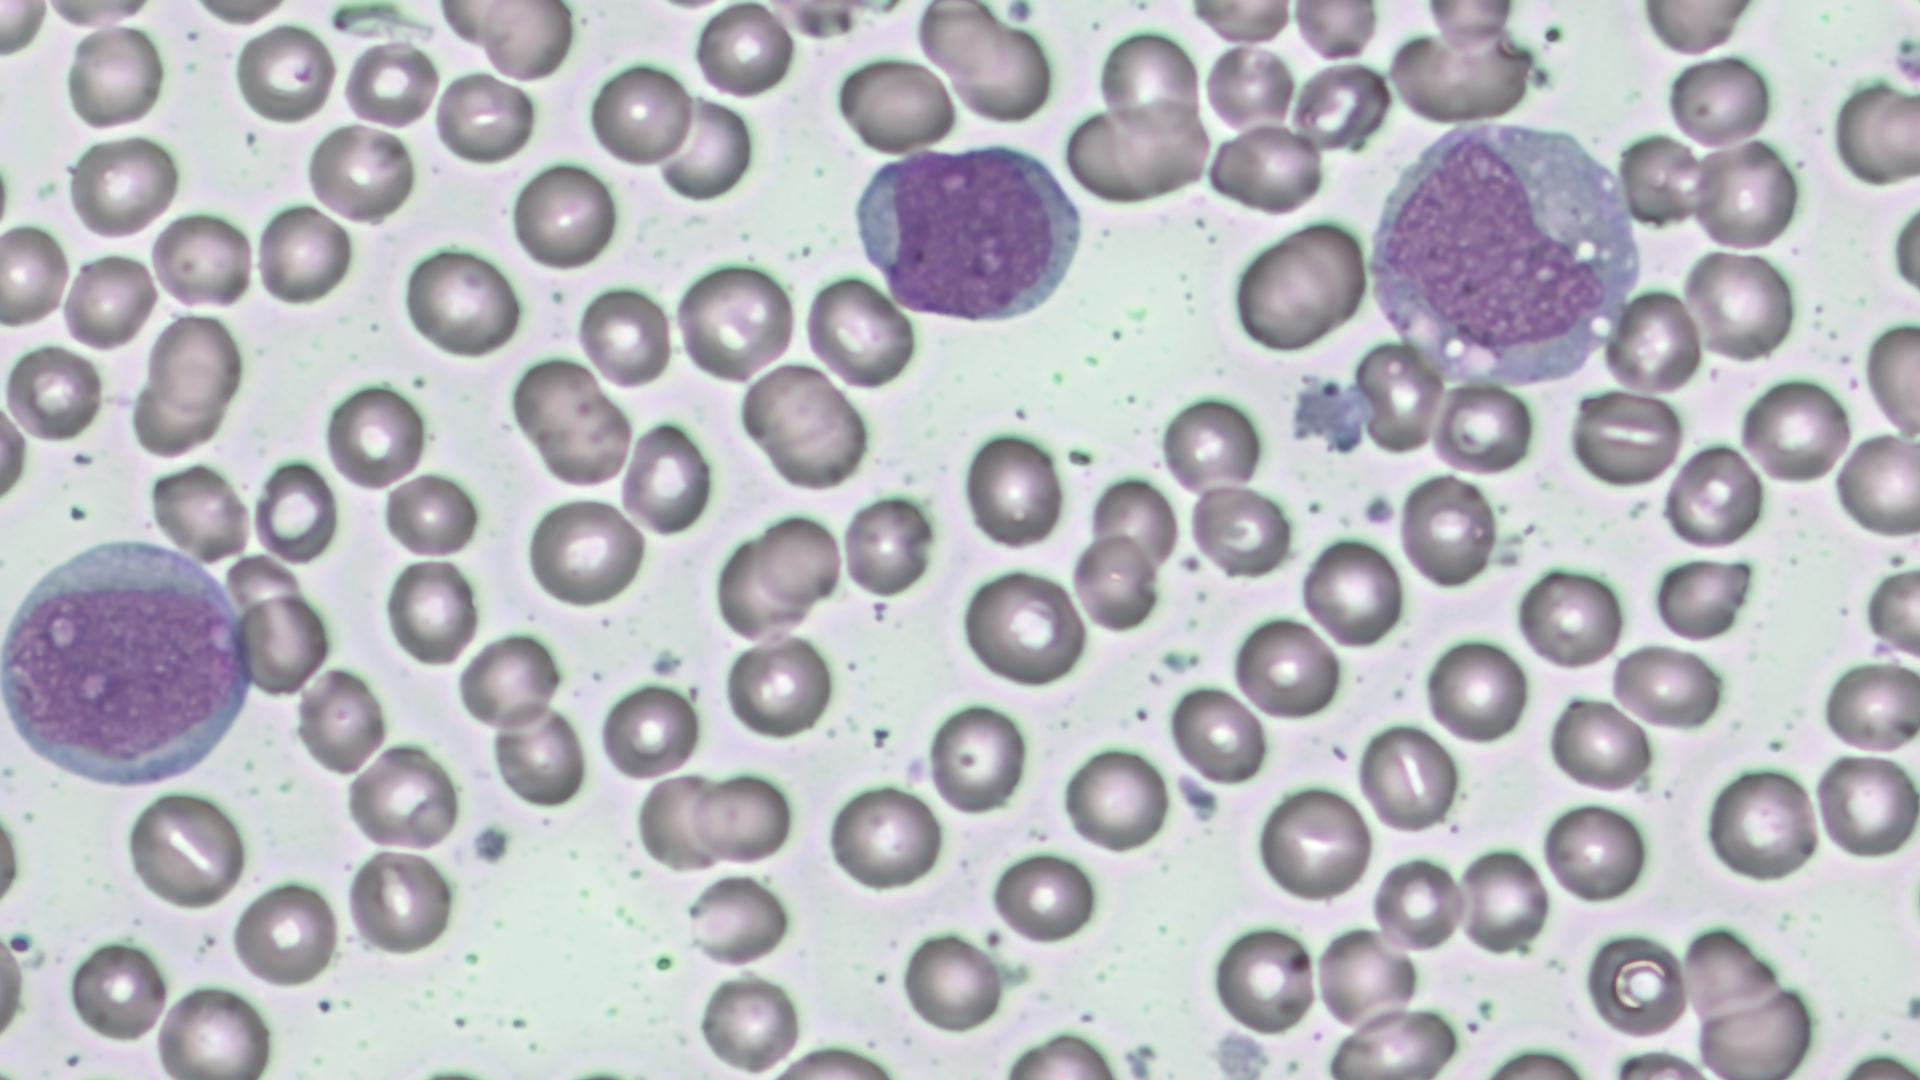Platelets: (647, 644, 686, 680), (1000, 0, 1039, 26), (1319, 375, 1342, 393)
RBC: (1229, 224, 1369, 353), (738, 360, 870, 492), (1059, 100, 1211, 208), (1385, 22, 1538, 127), (121, 787, 251, 910), (673, 258, 796, 385), (960, 567, 1084, 687), (1251, 781, 1371, 905), (1701, 762, 1821, 885), (1680, 243, 1800, 364), (402, 243, 524, 360), (802, 270, 916, 393), (822, 779, 945, 893), (525, 495, 647, 608), (960, 425, 1068, 553), (943, 8, 1058, 125), (835, 51, 959, 158), (65, 131, 181, 244), (229, 876, 342, 992), (720, 630, 836, 742), (152, 978, 280, 1080), (1581, 922, 1689, 1042), (1298, 531, 1406, 651), (344, 844, 458, 957), (1228, 611, 1342, 723), (926, 696, 1030, 819), (1420, 633, 1532, 746), (1058, 742, 1172, 853), (1538, 796, 1652, 907), (345, 740, 459, 851), (1513, 560, 1626, 671), (1688, 138, 1797, 253), (320, 378, 429, 495), (1396, 469, 1498, 592), (898, 924, 1009, 1036), (587, 55, 695, 170), (1211, 920, 1317, 1036), (1356, 717, 1461, 835), (506, 160, 616, 272), (1313, 922, 1422, 1035), (1095, 26, 1203, 140), (1811, 748, 1917, 862), (527, 375, 636, 487), (1741, 375, 1847, 488), (61, 18, 165, 133), (1156, 390, 1265, 498), (66, 934, 171, 1044), (655, 94, 758, 206), (694, 971, 806, 1073), (305, 119, 417, 222), (1604, 284, 1706, 396), (1606, 640, 1726, 735), (149, 207, 256, 313), (253, 199, 356, 309), (620, 418, 713, 538), (1569, 389, 1683, 488), (1352, 339, 1447, 456), (1166, 680, 1269, 789), (1207, 120, 1325, 214), (384, 554, 480, 669), (1, 340, 105, 446), (1545, 691, 1654, 793), (491, 699, 589, 810), (1665, 51, 1776, 150), (711, 538, 814, 644), (145, 458, 251, 560), (575, 281, 674, 390), (988, 848, 1098, 945), (59, 247, 160, 353), (691, 1, 796, 102), (1084, 473, 1182, 582), (1664, 442, 1762, 550), (1188, 483, 1296, 580), (684, 872, 794, 968), (1455, 843, 1551, 952), (295, 665, 388, 778), (458, 630, 560, 732), (597, 680, 702, 781), (251, 452, 340, 568), (839, 492, 934, 601), (236, 591, 332, 698), (1317, 1005, 1461, 1076), (630, 770, 731, 872), (233, 22, 334, 124), (690, 769, 794, 866), (1429, 380, 1536, 475), (145, 311, 243, 413), (1820, 655, 1917, 757), (1833, 75, 1920, 187), (1069, 529, 1163, 633), (508, 356, 611, 450), (1370, 853, 1464, 953), (434, 70, 538, 160), (1292, 59, 1390, 153), (339, 36, 436, 129), (381, 468, 480, 560), (1834, 433, 1917, 541), (1652, 553, 1754, 640), (1203, 41, 1298, 133), (753, 510, 843, 603), (0, 219, 74, 328), (477, 3, 575, 84), (1633, 1, 1758, 61), (1865, 316, 1917, 448), (1859, 562, 1920, 662), (1291, 1, 1381, 63), (1188, 0, 1298, 47), (1419, 1, 1520, 51), (1884, 193, 1920, 313), (0, 392, 32, 520), (0, 0, 51, 63)
WBC: (1360, 111, 1652, 392), (0, 531, 260, 791), (847, 133, 1092, 328)
